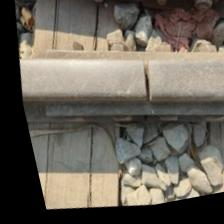person: (106, 51, 177, 118)
